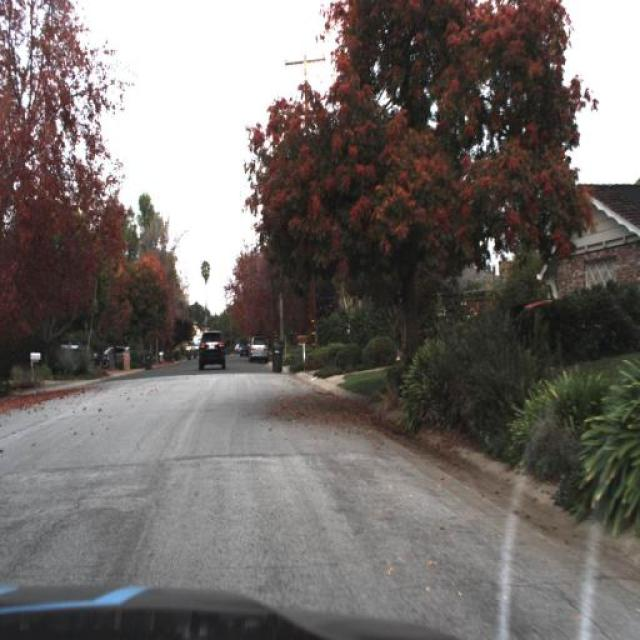car: (194, 326, 227, 374), (249, 332, 269, 362)
